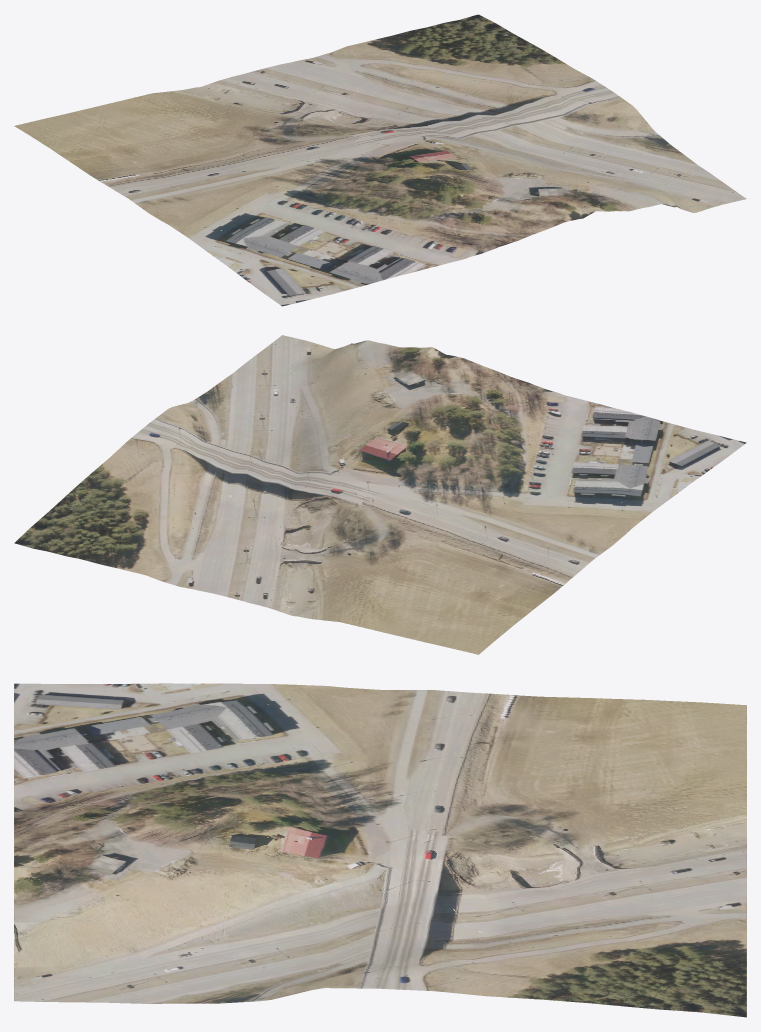
File: CM_Terrain_24490868_6818770.fbx
3 views of the same model, one above another, from view 1: azimuth 30°, elevation 25°; view 2: azimuth 150°, elevation 25°; view 3: azimuth 270°, elevation 25° (orthographic). The views are drawn at different scales.
Visible parts, largest first — view 1: CM_Terrain_24490868_6818770_LOD0; view 2: CM_Terrain_24490868_6818770_LOD0; view 3: CM_Terrain_24490868_6818770_LOD0.
Boxes of the visible parts, left/top/right/bottom form: CM_Terrain_24490868_6818770_LOD0: left=14, top=14, right=746, bottom=306; CM_Terrain_24490868_6818770_LOD0: left=14, top=335, right=746, bottom=654; CM_Terrain_24490868_6818770_LOD0: left=14, top=683, right=746, bottom=1017.
Size of what is drawn, in the model's own units: 205 by 17.72 by 205.
